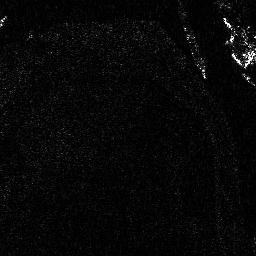ship: (182, 24, 206, 79)
